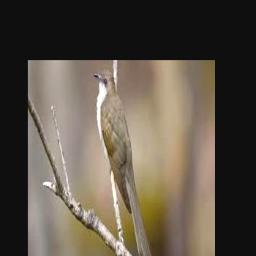Cuckoo: (92, 70, 153, 256)
